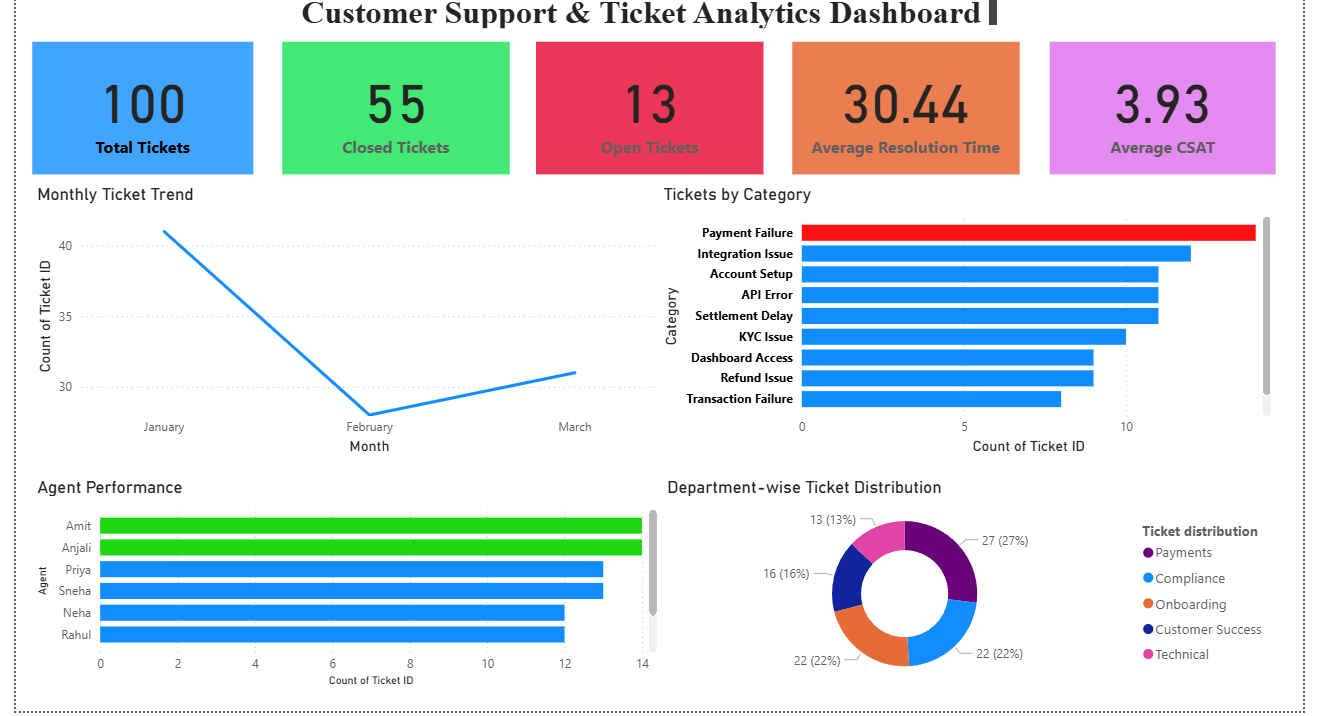

The page's visual inventory and layout, read from the dashboard file:
{"tool":"powerbi","page":{"name":"Page 1","canvas":[1280,720],"ordinal":0},"visuals":[{"type":"card","fields":{"Values":["CountNonNull(Ticket_Data (2).Ticket ID)"]},"box":[16.2,53.5,220.2,131.9],"z":0},{"type":"card","fields":{"Values":["CountNonNull(Ticket_Data (2).Ticket ID)"]},"box":[265,53.5,226.4,131.9],"z":1000},{"type":"card","fields":{"Values":["CountNonNull(Ticket_Data (2).Ticket ID)"]},"box":[517.5,53.5,226.4,131.9],"z":2000},{"type":"card","fields":{"Values":["Avg(Ticket_Data (2).Resolution Time (Hrs))"]},"box":[772.5,53.5,226.4,131.9],"z":3000},{"type":"card","fields":{"Values":["Avg(Ticket_Data (2).CSAT)"]},"box":[1028.8,53.5,225.2,131.9],"z":4000},{"type":"lineChart","title":"Monthly Ticket Trend","fields":{"Category":["Ticket_Data (2).Date Opened.Variation.Date Hierarchy.Month"],"Y":["CountNonNull(Ticket_Data (2).Ticket ID)"]},"box":[16.2,195.3,627,273.7],"z":5000},{"type":"clusteredBarChart","title":"Tickets by Category","fields":{"Y":["CountNonNull(Ticket_Data (2).Ticket ID)"],"Category":["Ticket_Data (2).Category"]},"box":[639.4,195.3,614.5,273.7],"z":6000},{"type":"donutChart","title":"Department-wise Ticket Distribution","fields":{"Category":["Ticket_Data (2).Department"],"Y":["CountNonNull(Ticket_Data (2).Ticket ID)"]},"box":[643.1,486.4,610.8,214],"z":7000},{"type":"clusteredBarChart","title":"Agent Performance","fields":{"Category":["Ticket_Data (2).Agent"],"Y":["CountNonNull(Ticket_Data (2).Ticket ID)"]},"box":[16.2,486.4,627,214],"z":8000},{"type":"textbox","box":[278.6,0,702.8,44.8],"z":9000}]}

Visuals, with their boxes on the page's 1280x720 design canvas (x1, y1, x2, y2). These are canvas units, not pixel positions in the 1330x716 screenshot, which may show the page scaled, cropped or inside an application window:
card - CountNonNull(Ticket_Data (2).Ticket ID): [16,54,236,185]
card - CountNonNull(Ticket_Data (2).Ticket ID): [265,54,491,185]
card - CountNonNull(Ticket_Data (2).Ticket ID): [518,54,744,185]
card - Avg(Ticket_Data (2).Resolution Time (Hrs)): [772,54,999,185]
card - Avg(Ticket_Data (2).CSAT): [1029,54,1254,185]
"Monthly Ticket Trend" lineChart: [16,195,643,469]
"Tickets by Category" clusteredBarChart: [639,195,1254,469]
"Department-wise Ticket Distribution" donutChart: [643,486,1254,700]
"Agent Performance" clusteredBarChart: [16,486,643,700]
textbox: [279,0,981,45]
